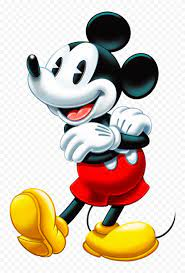mickeymouse: (12, 14, 159, 262)
